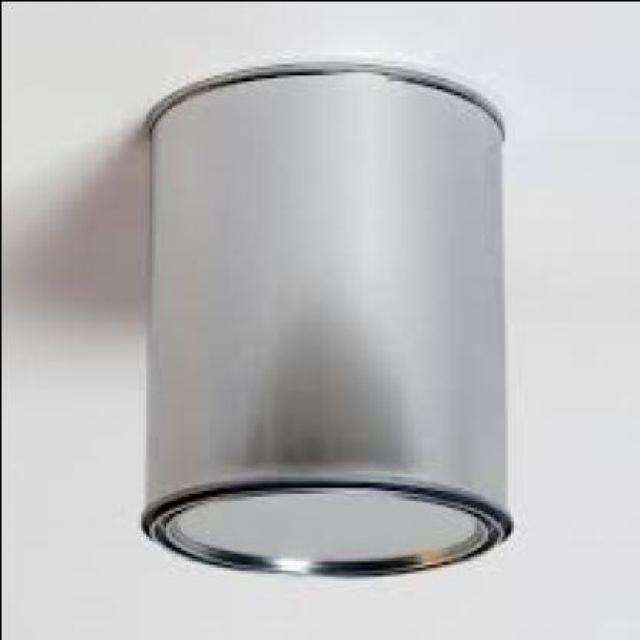METAL: (142, 68, 518, 581)
